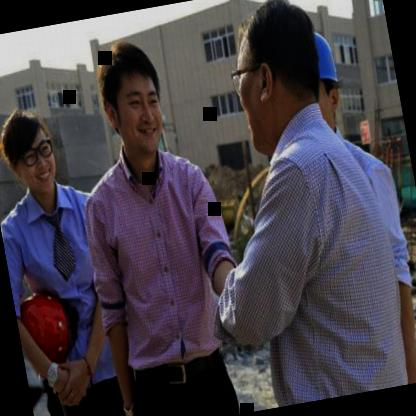head: (227, 0, 333, 151), (94, 37, 174, 170), (0, 101, 64, 206)
helmet: (307, 32, 350, 126)
